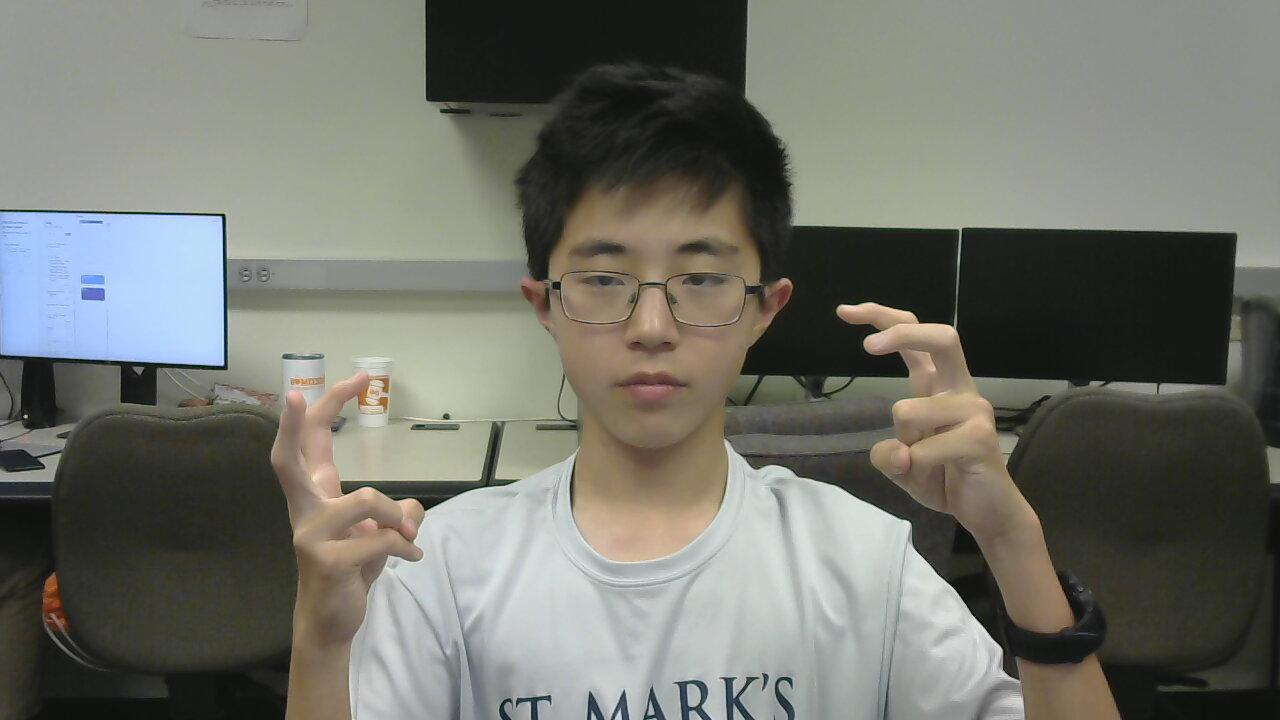peace: (831, 287, 1040, 549), (258, 362, 426, 663)
